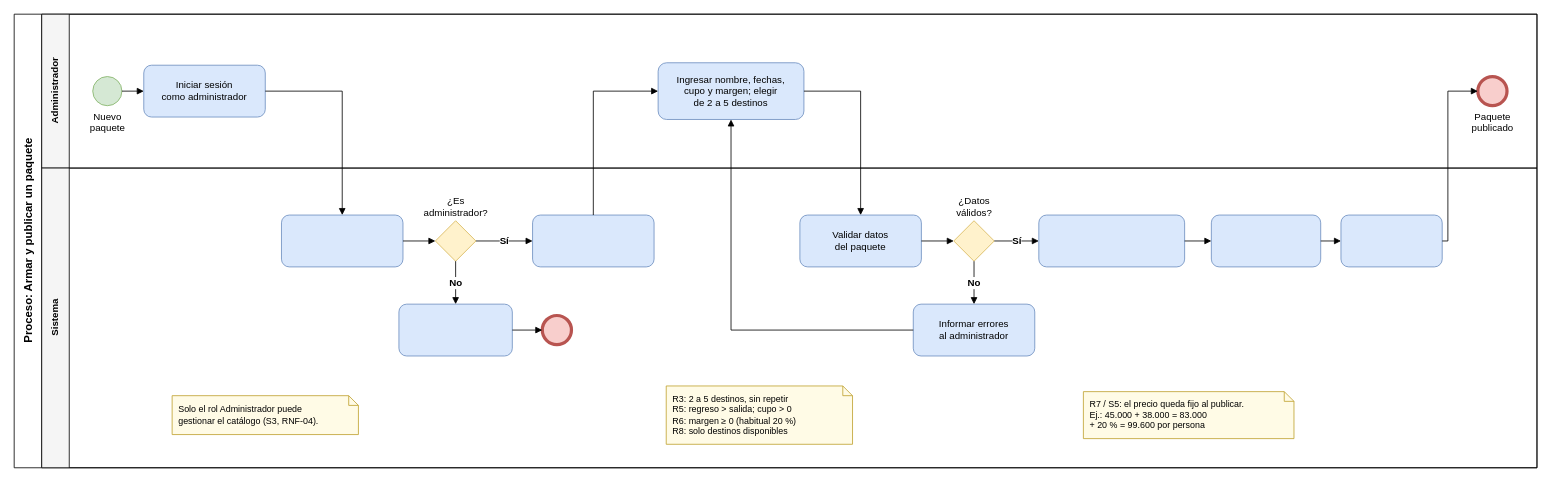
The diagram is 1551 pixels wide and 482 high, and some of its shapes have lost their labels. Each missing label, with the box of its shape:
Acceso denegado: (540, 313, 573, 346)
Calcular precio por persona (suma de costos + margen): (1038, 214, 1185, 267)
Denegar acceso: (398, 303, 512, 356)
Listar destinos disponibles: (532, 214, 654, 267)
Mostrar paquete publicado: (1340, 214, 1442, 267)
Publicar paquete y fijar precio: (1211, 214, 1321, 267)
Validar credenciales y rol: (281, 214, 403, 267)
